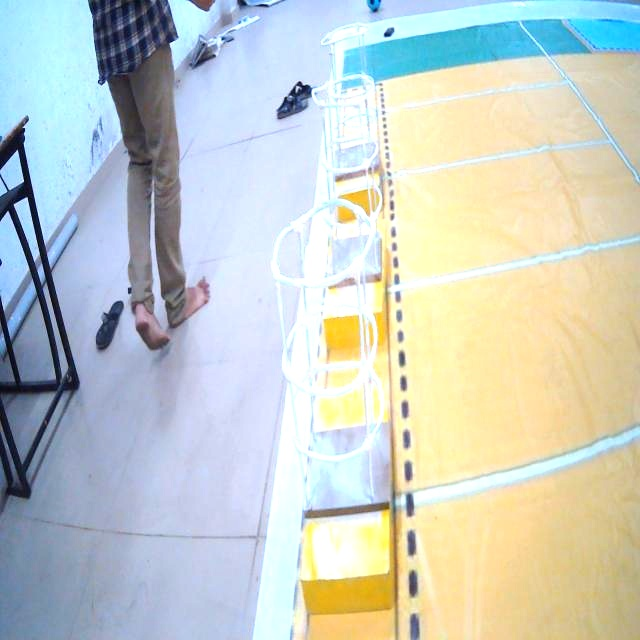silo: (246, 190, 418, 548), (306, 76, 390, 290), (315, 22, 383, 182)
